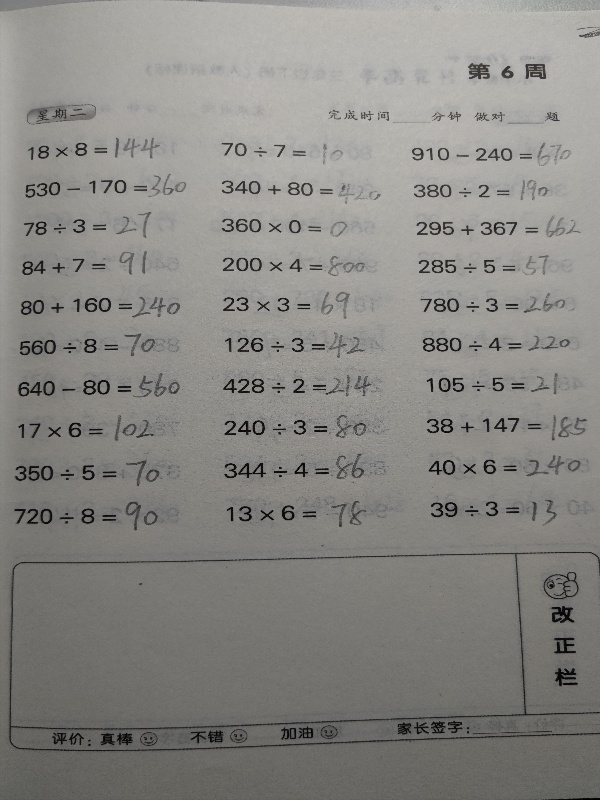equation: (22, 169, 190, 206), (13, 370, 186, 405), (14, 287, 192, 321), (222, 495, 374, 532), (427, 452, 588, 486), (421, 410, 592, 442), (408, 140, 576, 171), (219, 286, 365, 321), (222, 373, 380, 405), (12, 502, 168, 534), (413, 213, 585, 242), (218, 412, 377, 443), (221, 328, 372, 360), (218, 177, 384, 206), (429, 493, 566, 528), (419, 327, 584, 356), (424, 366, 569, 399), (220, 454, 374, 485), (15, 329, 159, 362), (13, 459, 170, 489), (217, 136, 355, 170), (219, 252, 378, 281), (16, 416, 162, 447), (416, 290, 577, 317), (12, 209, 155, 239), (410, 176, 553, 204), (414, 250, 552, 279), (20, 250, 159, 278), (24, 135, 163, 162), (218, 215, 350, 238)
